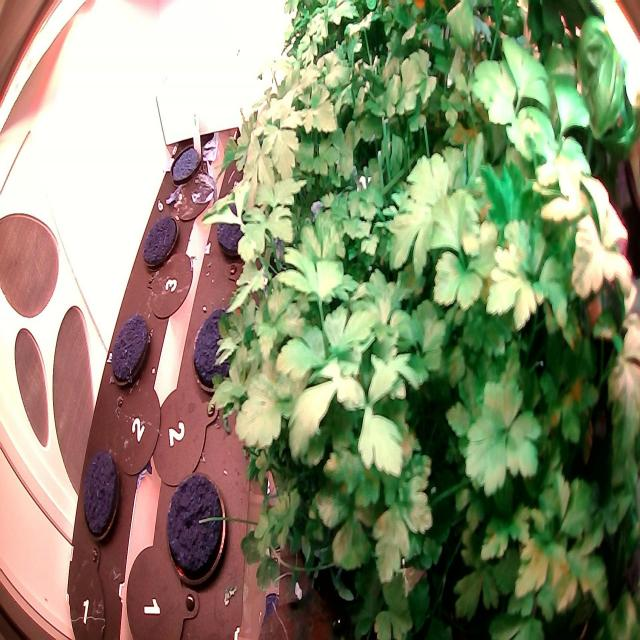pod: (163, 465, 229, 598), (189, 302, 248, 401), (78, 442, 129, 546), (106, 307, 153, 396), (217, 195, 256, 268), (139, 208, 180, 277), (168, 134, 202, 188)
